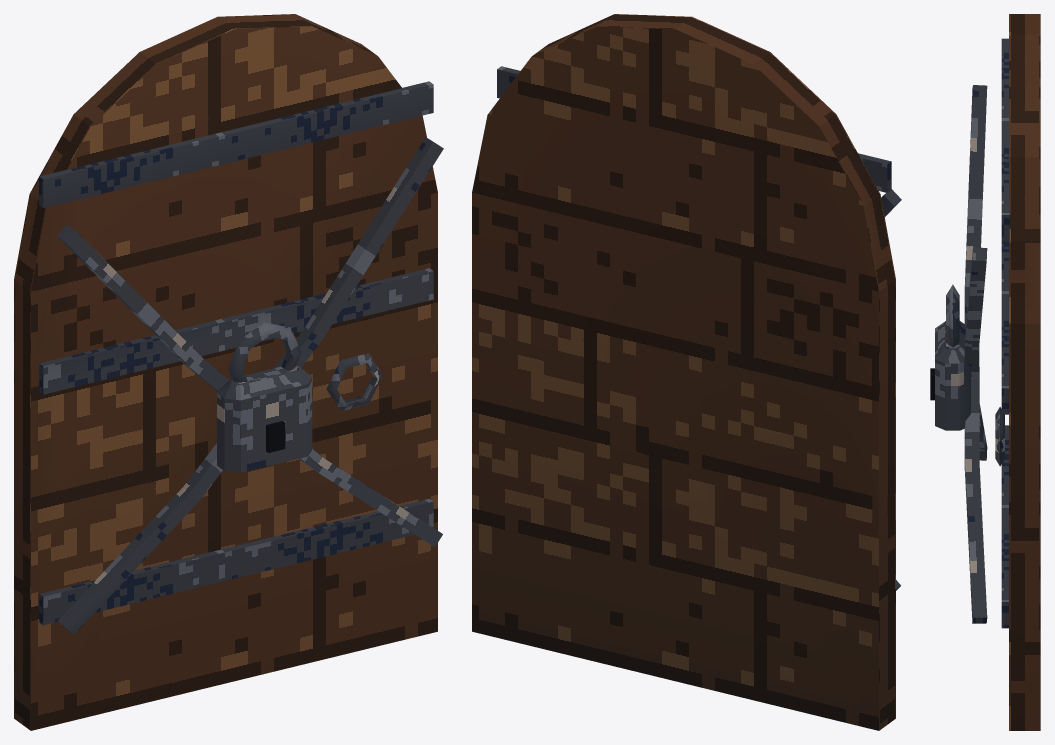
Rendered from dgn.door_locked__locked.glb.
The picture shows the model from 3 angles, left to right: view 1: azimuth 30°, elevation 25°; view 2: azimuth 150°, elevation 25°; view 3: azimuth 270°, elevation 25°; orthographic projection. The views are drawn at different scales.
Parts seen in each view (by area): view 1: kit_leaf, kit_bands, kit_chains, kit_padlock, kit_ring; view 2: kit_leaf, kit_bands; view 3: kit_leaf, kit_chains, kit_bands, kit_padlock, kit_ring.
Part boxes in pixels (x1,y1,x2,y2): kit_leaf: (14,14,437,730); kit_bands: (39,81,433,625); kit_chains: (57,137,443,634); kit_padlock: (217,322,312,472); kit_ring: (326,353,382,411); kit_leaf: (472,14,895,730); kit_bands: (497,66,891,192); kit_leaf: (1009,14,1040,730); kit_chains: (964,85,987,623); kit_bands: (1001,38,1009,628); kit_padlock: (930,284,970,430); kit_ring: (995,407,1004,466).
Size of the model in its own units: 1.94 by 2.97 by 0.49.
3 materials, 3 textured.
